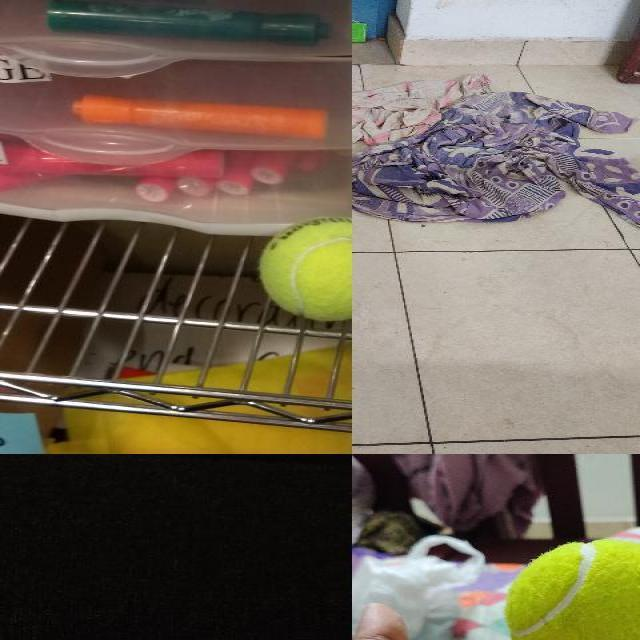tennis-ball: (501, 539, 639, 639), (257, 216, 351, 325)
